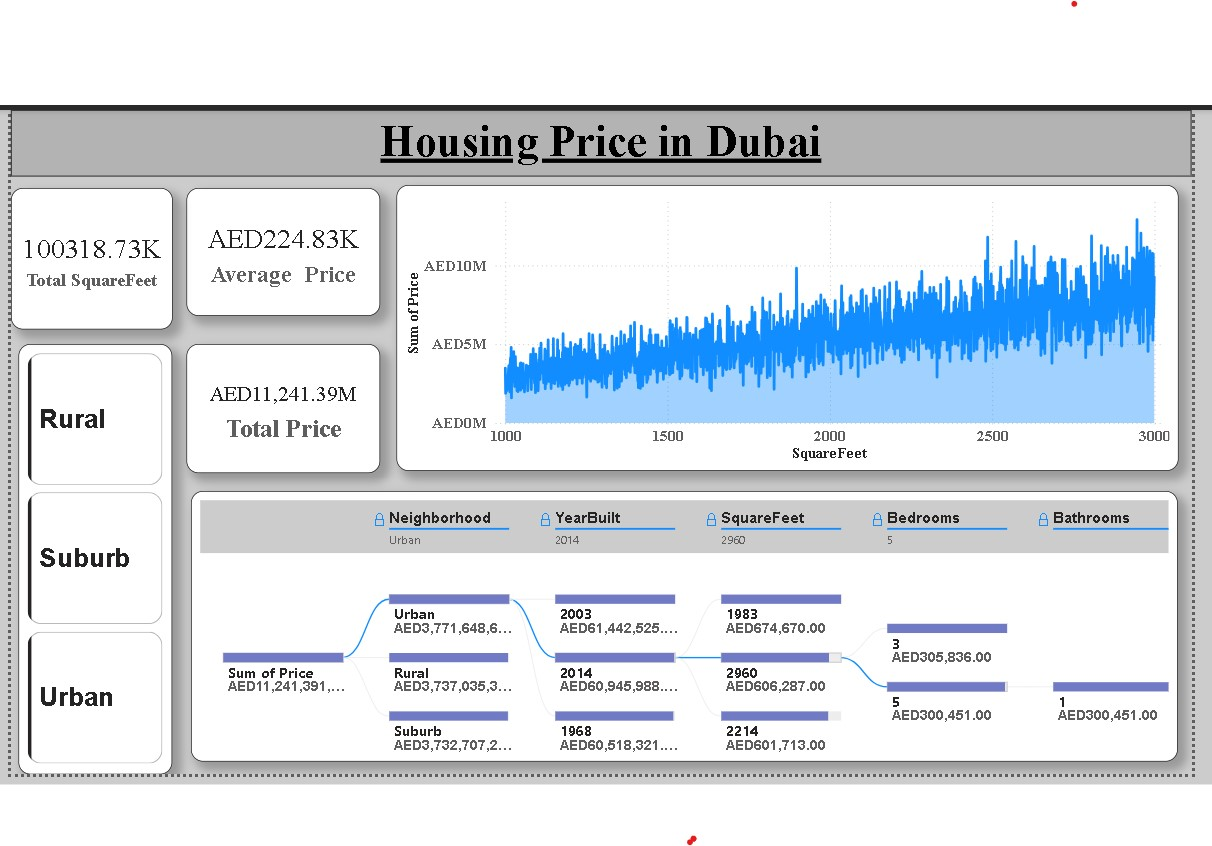

Layout of this report page (visuals, bound fields, positions):
{"tool":"powerbi","page":{"name":"Dashbord","canvas":[1280,720],"ordinal":0},"visuals":[{"type":"decompositionTreeVisual","fields":{"Analyze":["Sum(housing_price_dataset.Price)"],"ExplainBy":["housing_price_dataset.Neighborhood","housing_price_dataset.YearBuilt","housing_price_dataset.SquareFeet","housing_price_dataset.Bedrooms","housing_price_dataset.Bathrooms"]},"box":[195,413.3,1070,293.3],"z":0},{"type":"textbox","box":[0,0,1280,71.7],"z":1000},{"type":"advancedSlicerVisual","fields":{"Values":["housing_price_dataset.Neighborhood"]},"box":[8.3,253.3,166.7,466.7],"z":2000},{"type":"card","fields":{"Values":["Avg(housing_price_dataset.Price)"]},"box":[190,85,210,138.3],"z":3000},{"type":"card","fields":{"Values":["Sum(housing_price_dataset.Price)"]},"box":[190,253.3,210,140],"z":4000},{"type":"stackedAreaChart","fields":{"Y":["Sum(housing_price_dataset.Price)"],"Category":["housing_price_dataset.SquareFeet"]},"box":[418.3,81.7,848,310],"z":5000},{"type":"card","fields":{"Values":["Sum(housing_price_dataset.SquareFeet)"]},"box":[0,85,175,153.3],"z":6000}]}

Visuals, with their boxes in screenshot pixels (x1, y1, x2, y2):
decompositionTreeVisual - Sum(housing_price_dataset.Price) x housing_price_dataset.Neighborhood: [x1=185, y1=487, x2=1184, y2=761]
textbox: [x1=3, y1=101, x2=1198, y2=168]
advancedSlicerVisual - housing_price_dataset.Neighborhood: [x1=11, y1=338, x2=167, y2=773]
card - Avg(housing_price_dataset.Price): [x1=181, y1=180, x2=377, y2=310]
card - Sum(housing_price_dataset.Price): [x1=181, y1=338, x2=377, y2=468]
stackedAreaChart - Sum(housing_price_dataset.Price) x housing_price_dataset.SquareFeet: [x1=394, y1=177, x2=1186, y2=467]
card - Sum(housing_price_dataset.SquareFeet): [x1=3, y1=180, x2=167, y2=324]
